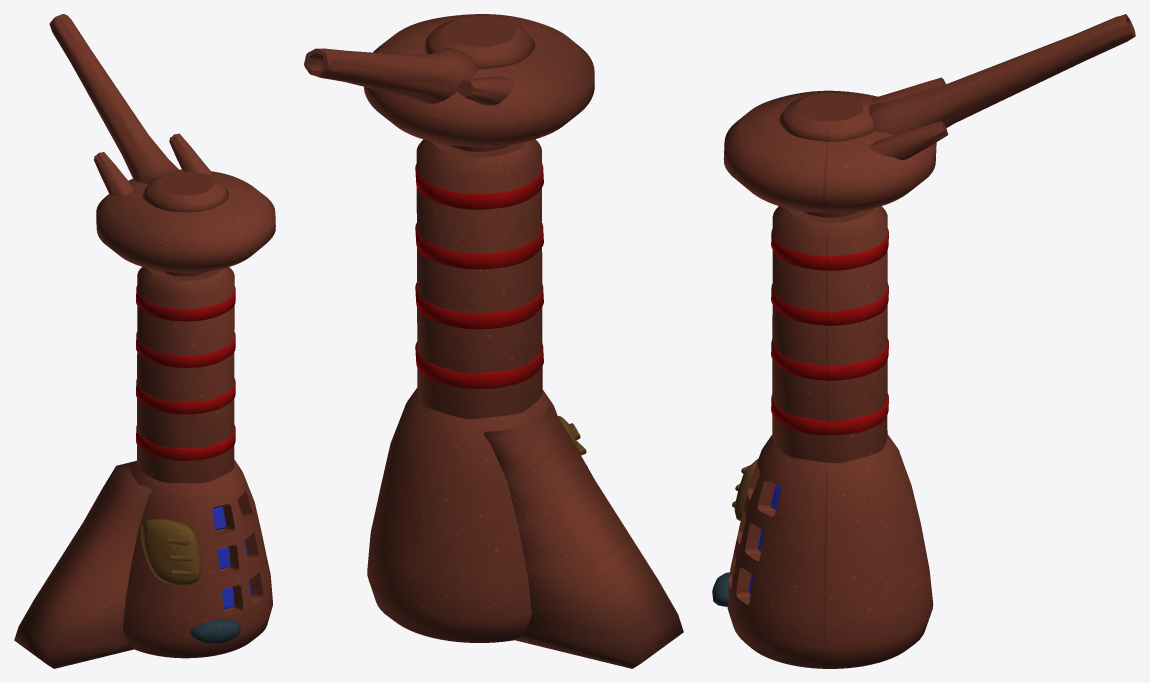
The picture shows the model from 3 angles, left to right: view 1: azimuth 30°, elevation 25°; view 2: azimuth 150°, elevation 25°; view 3: azimuth 270°, elevation 25°; orthographic projection. The views are drawn at different scales.
Parts seen in each view (by area): view 1: AC26 grounded flared casing, AC26 narrow stationary shaft, AC26 grounded sloping buttress, AC26 low bowl directional head, AC26 long central emitter, AC26 ochre raised service plate, AC26 shallow head cap, AC26 red shaft band 2, AC26 red shaft band 1, AC26 red shaft band 3, AC26 red shaft band 0, AC26 small slate ground oval (+2 smaller); view 2: AC26 grounded flared casing, AC26 grounded sloping buttress, AC26 narrow stationary shaft, AC26 low bowl directional head, AC26 long central emitter, AC26 shallow head cap, AC26 red shaft band 0, AC26 red shaft band 3, AC26 red shaft band 1, AC26 red shaft band 2, AC26 short flanking lug 0; view 3: AC26 grounded flared casing, AC26 narrow stationary shaft, AC26 low bowl directional head, AC26 long central emitter, AC26 shallow head cap, AC26 red shaft band 0, AC26 red shaft band 1, AC26 red shaft band 2, AC26 red shaft band 3, AC26 short flanking lug 1, AC26 short flanking lug 0.
Boxes of the visible parts, x1,y1,x2,y2 form: AC26 grounded flared casing: [123, 460, 272, 658]; AC26 narrow stationary shaft: [137, 267, 234, 483]; AC26 grounded sloping buttress: [14, 461, 151, 668]; AC26 low bowl directional head: [96, 169, 275, 272]; AC26 long central emitter: [49, 14, 180, 184]; AC26 ochre raised service plate: [140, 519, 200, 585]; AC26 shallow head cap: [142, 171, 228, 212]; AC26 red shaft band 2: [136, 332, 235, 367]; AC26 red shaft band 1: [136, 378, 235, 414]; AC26 red shaft band 3: [136, 285, 235, 321]; AC26 red shaft band 0: [136, 425, 235, 460]; AC26 small slate ground oval: [190, 619, 240, 643]; AC26 grounded flared casing: [367, 388, 557, 642]; AC26 grounded sloping buttress: [484, 406, 683, 668]; AC26 narrow stationary shaft: [416, 139, 542, 418]; AC26 low bowl directional head: [364, 14, 594, 146]; AC26 long central emitter: [304, 48, 477, 103]; AC26 shallow head cap: [424, 17, 535, 69]; AC26 red shaft band 0: [415, 341, 543, 388]; AC26 red shaft band 3: [415, 163, 543, 209]; AC26 red shaft band 1: [415, 282, 543, 329]; AC26 red shaft band 2: [415, 223, 543, 269]; AC26 short flanking lug 0: [458, 76, 514, 105]; AC26 grounded flared casing: [727, 434, 933, 668]; AC26 narrow stationary shaft: [772, 206, 887, 463]; AC26 low bowl directional head: [723, 90, 936, 212]; AC26 long central emitter: [869, 14, 1135, 134]; AC26 shallow head cap: [779, 93, 874, 141]; AC26 red shaft band 0: [771, 393, 888, 435]; AC26 red shaft band 1: [771, 338, 888, 380]; AC26 red shaft band 2: [771, 283, 888, 325]; AC26 red shaft band 3: [771, 228, 888, 270]; AC26 short flanking lug 1: [869, 121, 948, 159]; AC26 short flanking lug 0: [871, 77, 945, 103].
Bounding box in the file's own units: 1.02 × 2.25 × 1.4.
6 materials, 5 textured.
